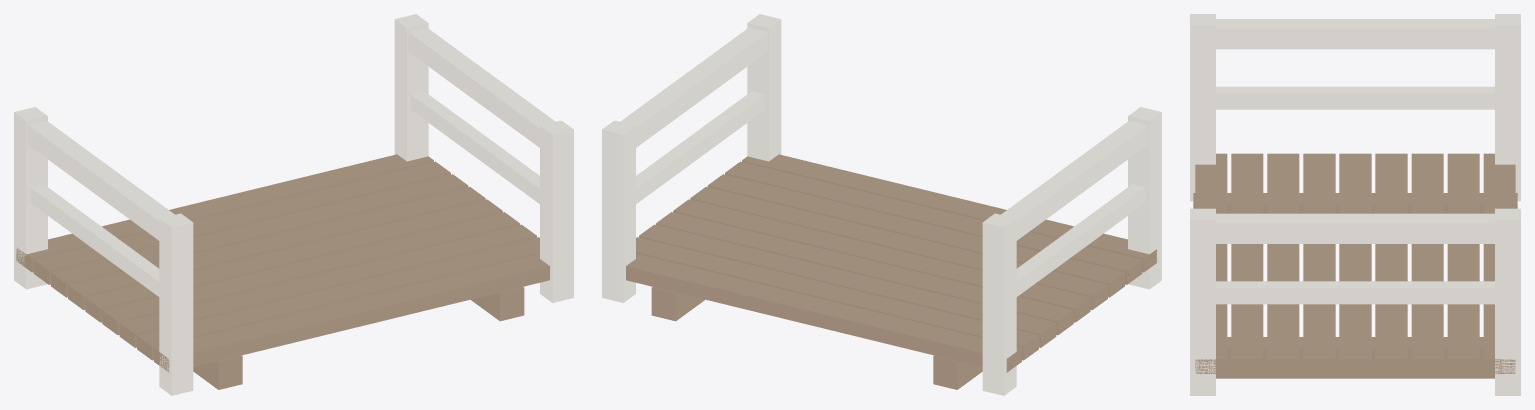
The model's file is Blender_BridgeBay_Wood.glb.
3 renders of one model, left to right at view 1: azimuth 30°, elevation 25°; view 2: azimuth 150°, elevation 25°; view 3: azimuth 270°, elevation 25°, orthographic. The views are drawn at different scales.
Visible parts, largest first — view 1: Blender_BridgeBay_Wood; view 2: Blender_BridgeBay_Wood; view 3: Blender_BridgeBay_Wood.
Boxes of the visible parts, x1=… form: Blender_BridgeBay_Wood: x1=14, y1=14, x2=573, y2=395; Blender_BridgeBay_Wood: x1=602, y1=14, x2=1161, y2=395; Blender_BridgeBay_Wood: x1=1190, y1=14, x2=1520, y2=395.
Bounding box in the file's own units: 3 × 1.25 × 2.04.
